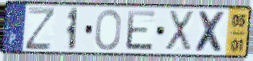1: (66, 6, 81, 52)
E: (125, 9, 158, 53)
O: (94, 8, 123, 52)
X: (193, 9, 228, 55), (164, 9, 196, 54)
Z: (24, 6, 58, 51)
